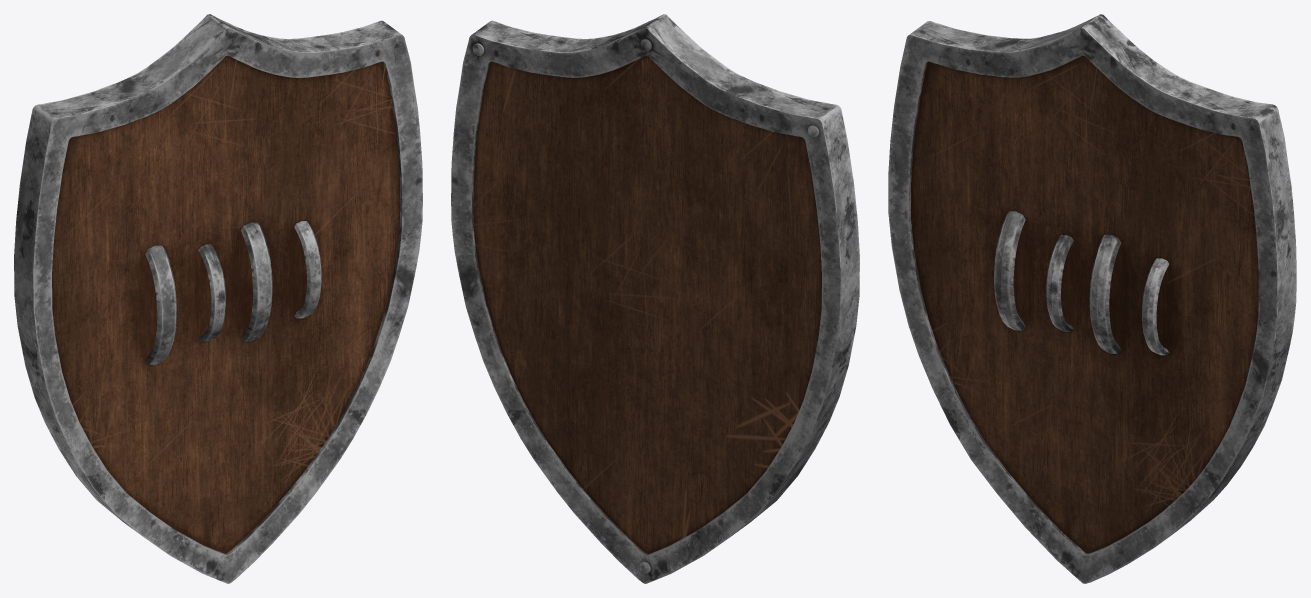
The model's file is Shield_03.fbx.
3 views of the same model, side by side, from view 1: azimuth 30°, elevation 25°; view 2: azimuth 150°, elevation 25°; view 3: azimuth 330°, elevation 25° (orthographic).
Visible parts, largest first — view 1: Shield_03; view 2: Shield_03; view 3: Shield_03.
Part boxes in pixels (box(x1,y1,x2,y2)): Shield_03: box(14, 14, 422, 583); Shield_03: box(451, 14, 859, 583); Shield_03: box(888, 14, 1296, 583).
Bounding box in the file's own units: 24.83 × 33.84 × 3.52.
Materials: 5 (5 with a texture image).
